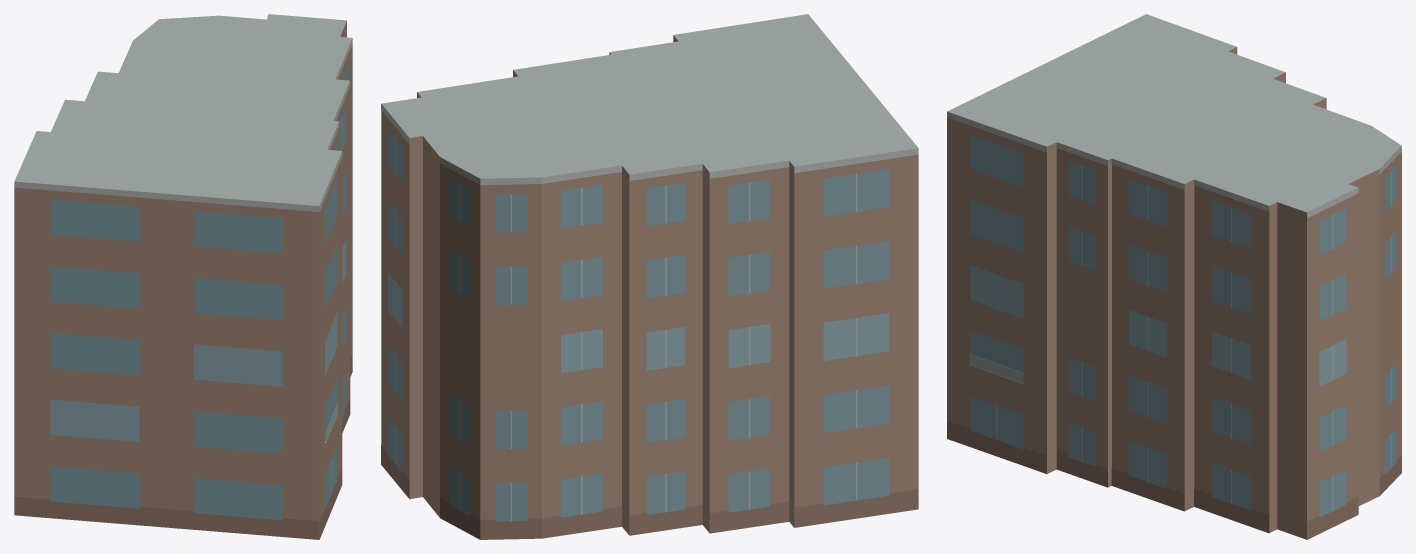
File: survey-upis-33037680.glb
The picture shows the model from 3 angles, left to right: view 1: azimuth 30°, elevation 25°; view 2: azimuth 150°, elevation 25°; view 3: azimuth 270°, elevation 25°; orthographic projection. The views are drawn at different scales.
Parts seen in each view (by area): view 1: survey-upis-33037680.tmp; view 2: survey-upis-33037680.tmp; view 3: survey-upis-33037680.tmp.
Boxes of the visible parts, bbox=[...] form: survey-upis-33037680.tmp: bbox=[14, 14, 352, 539]; survey-upis-33037680.tmp: bbox=[381, 14, 918, 539]; survey-upis-33037680.tmp: bbox=[947, 14, 1401, 539].
Size of the model in its own units: 17.83 by 13.7 by 17.26.
